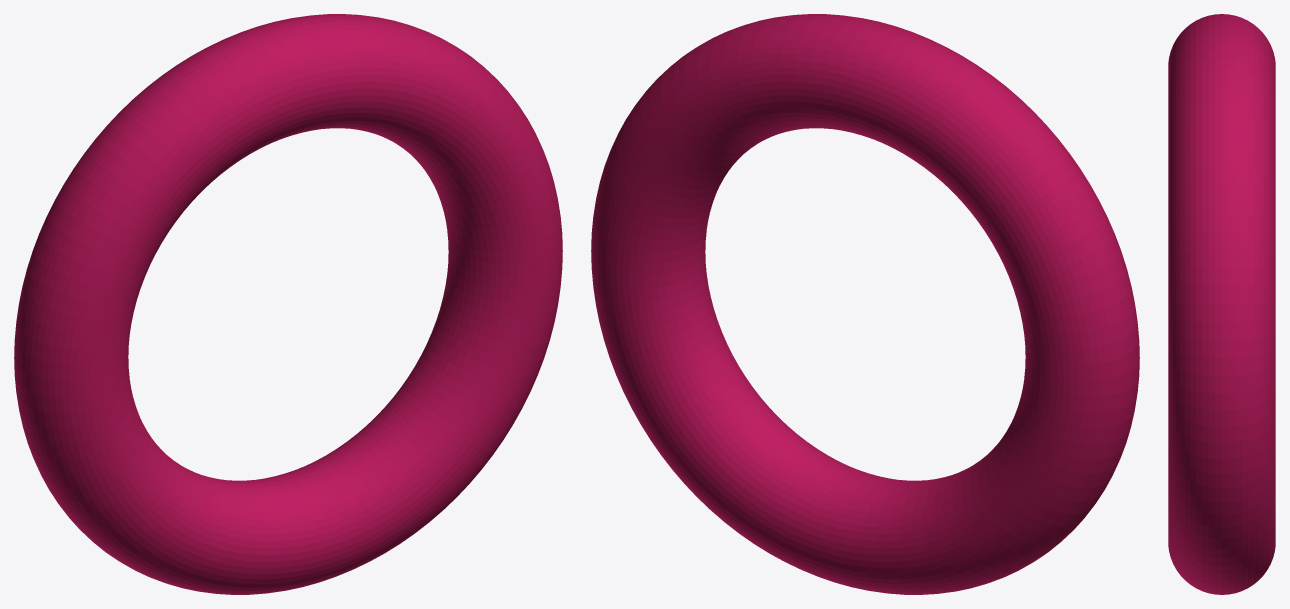
3 views of the same model, side by side, from view 1: azimuth 30°, elevation 25°; view 2: azimuth 150°, elevation 25°; view 3: azimuth 270°, elevation 25° (orthographic). The views are drawn at different scales.
Parts seen in each view (by area): view 1: world; view 2: world; view 3: world.
Boxes of the visible parts, <box> form: world: <box>14,14,562,594</box>; world: <box>591,14,1139,594</box>; world: <box>1168,14,1275,594</box>.
Bounding box in the file's own units: 35.2 × 35.2 × 6.52.
